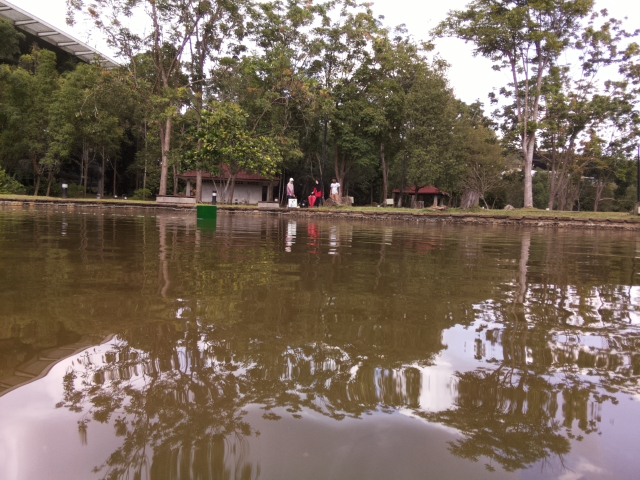obstacle: (196, 204, 218, 219)
